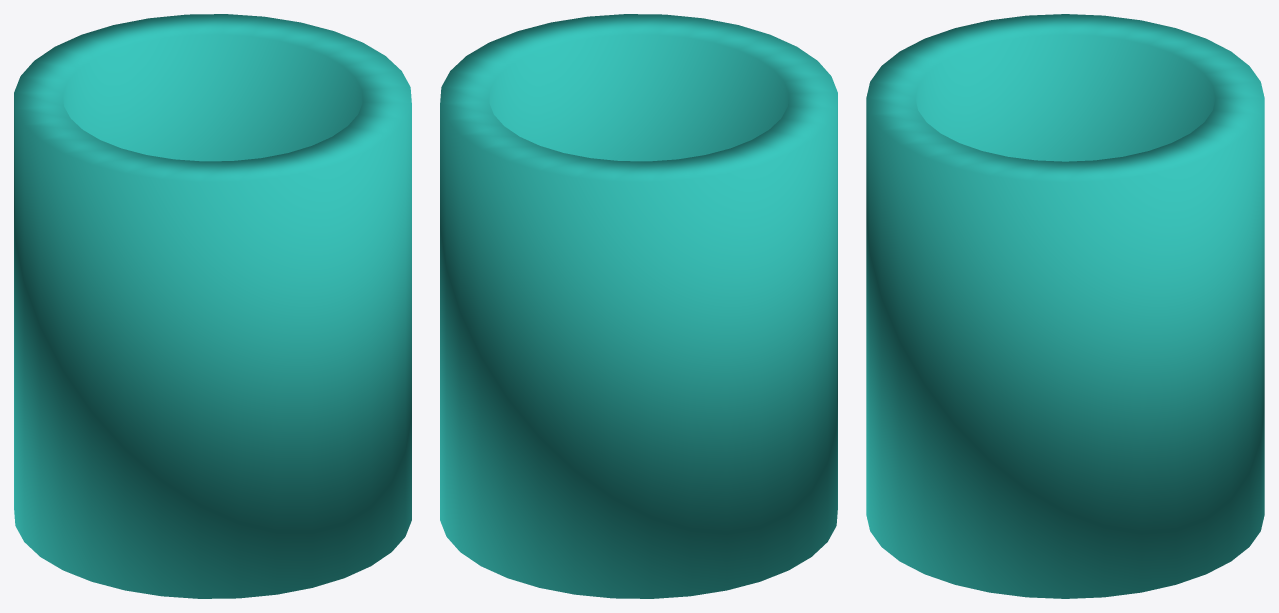
File: hollow-tube-lite.glb
The picture shows the model from 3 angles, left to right: view 1: azimuth 30°, elevation 25°; view 2: azimuth 150°, elevation 25°; view 3: azimuth 270°, elevation 25°; orthographic projection.
Visible parts, largest first — view 1: Hollow cylinder; view 2: Hollow cylinder; view 3: Hollow cylinder.
Part boxes in pixels (box(x1,y1,x2,y2)): Hollow cylinder: box(14, 14, 411, 598); Hollow cylinder: box(440, 14, 837, 598); Hollow cylinder: box(866, 14, 1264, 598).
Size of the model in its own units: 1.3 by 1.5 by 1.3.
